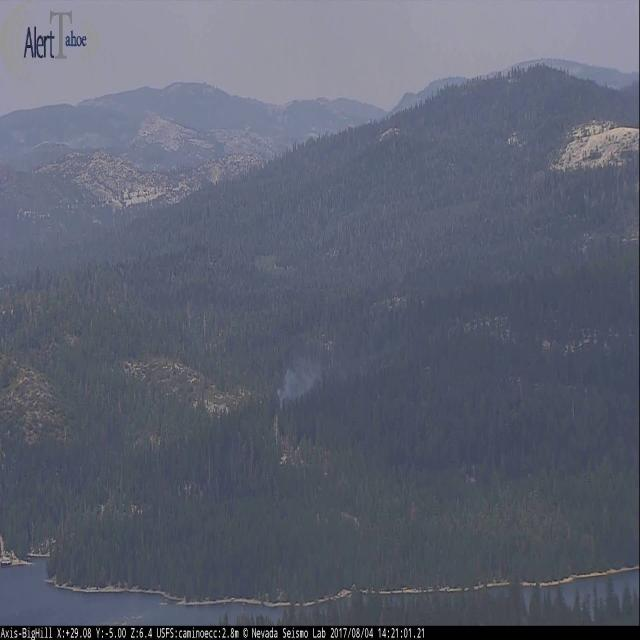smoke: (276, 358, 321, 416)
